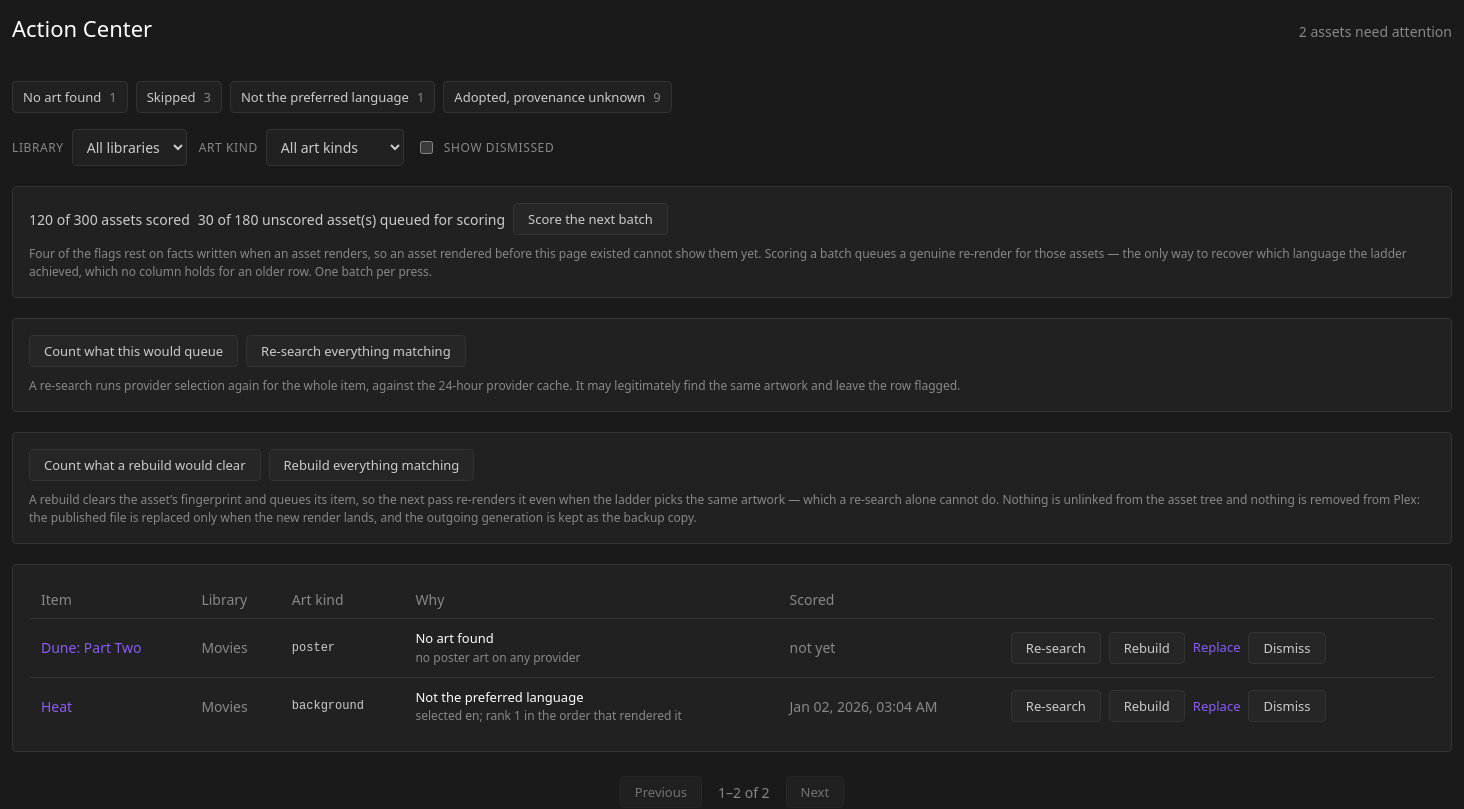
Test case: ActionCenter › counts a bulk re-search without queuing anything
Expected: the link "Dune: Part Two" is shown, [41,638,142,657]
Click the button "Count what this would queue": (134, 351) [29,335,238,367]
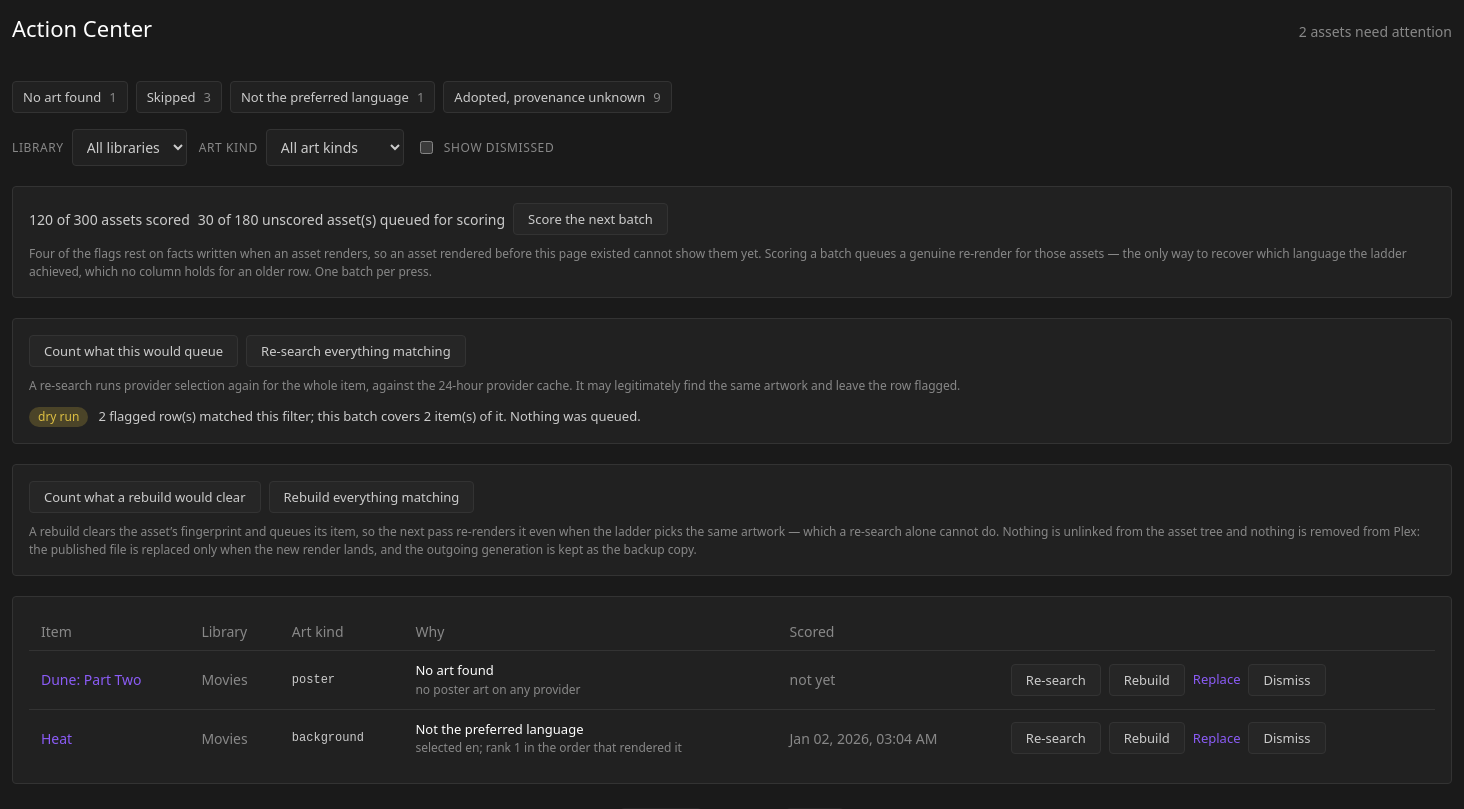
Expected: the text "Nothing was queued" is shown, [98,407,641,425]
